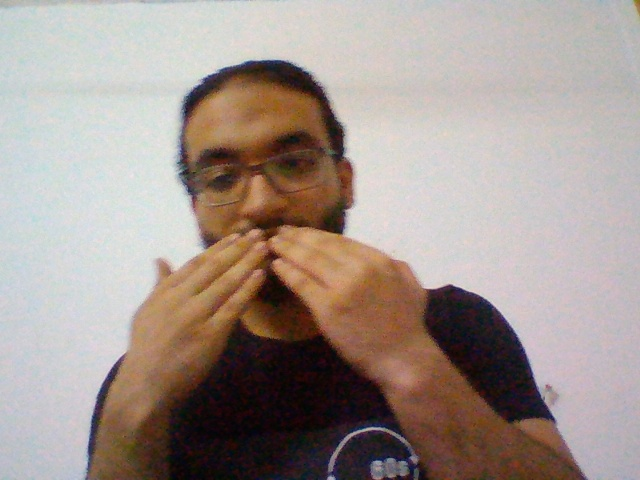Thanks: (98, 223, 472, 393)
